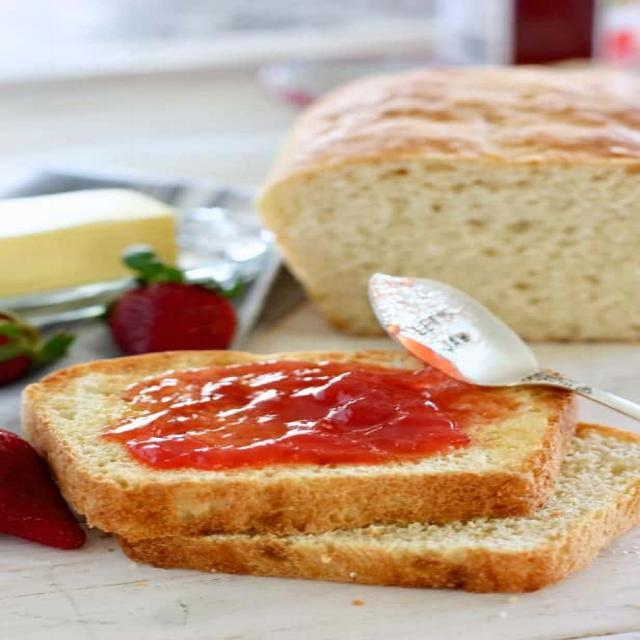Spread: (124, 353, 488, 473)
